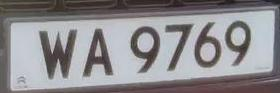6: (191, 17, 226, 74)
7: (161, 21, 196, 77)
9: (126, 22, 166, 79), (222, 15, 256, 69)
A: (79, 21, 118, 85)
W: (36, 23, 79, 86)
